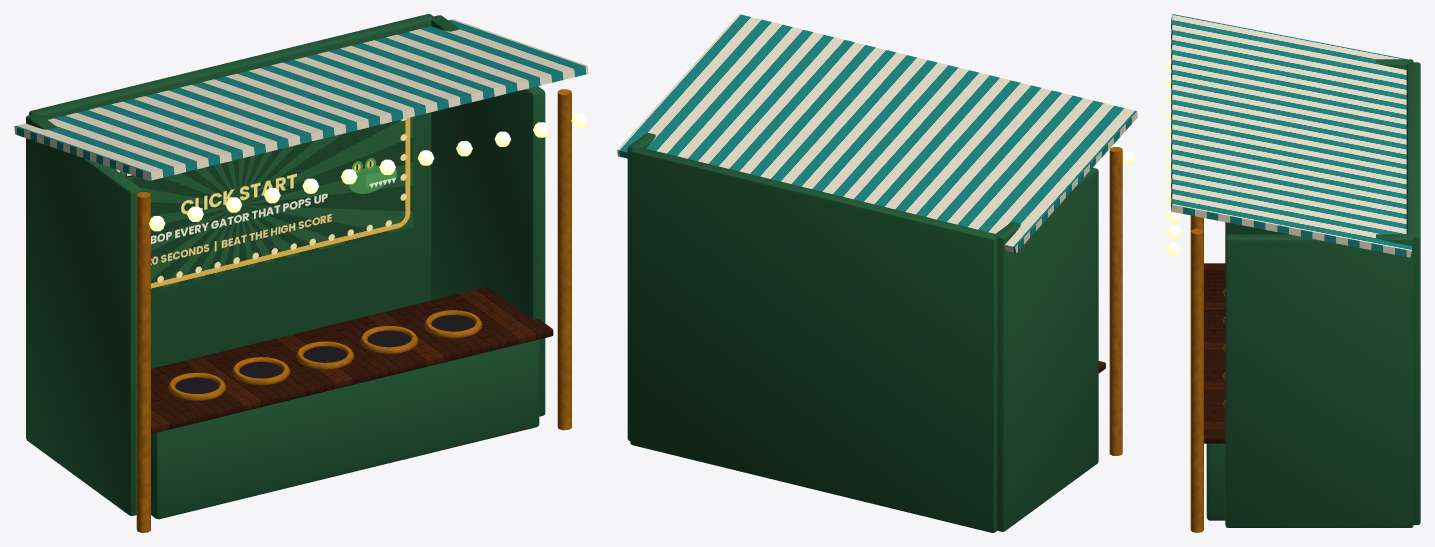
File: whack-booth.glb
3 renders of one model, left to right at view 1: azimuth 30°, elevation 25°; view 2: azimuth 150°, elevation 25°; view 3: azimuth 270°, elevation 25°, orthographic. The views are drawn at different scales.
Parts seen in each view (by area): view 1: whack-booth; view 2: whack-booth; view 3: whack-booth.
Part boxes in pixels (bbox=[...]): whack-booth: bbox=[14, 14, 588, 532]; whack-booth: bbox=[617, 14, 1137, 532]; whack-booth: bbox=[1166, 14, 1420, 532].
Bounding box in the file's own units: 4.8 × 3.86 × 2.71.
7 materials, 4 textured.
